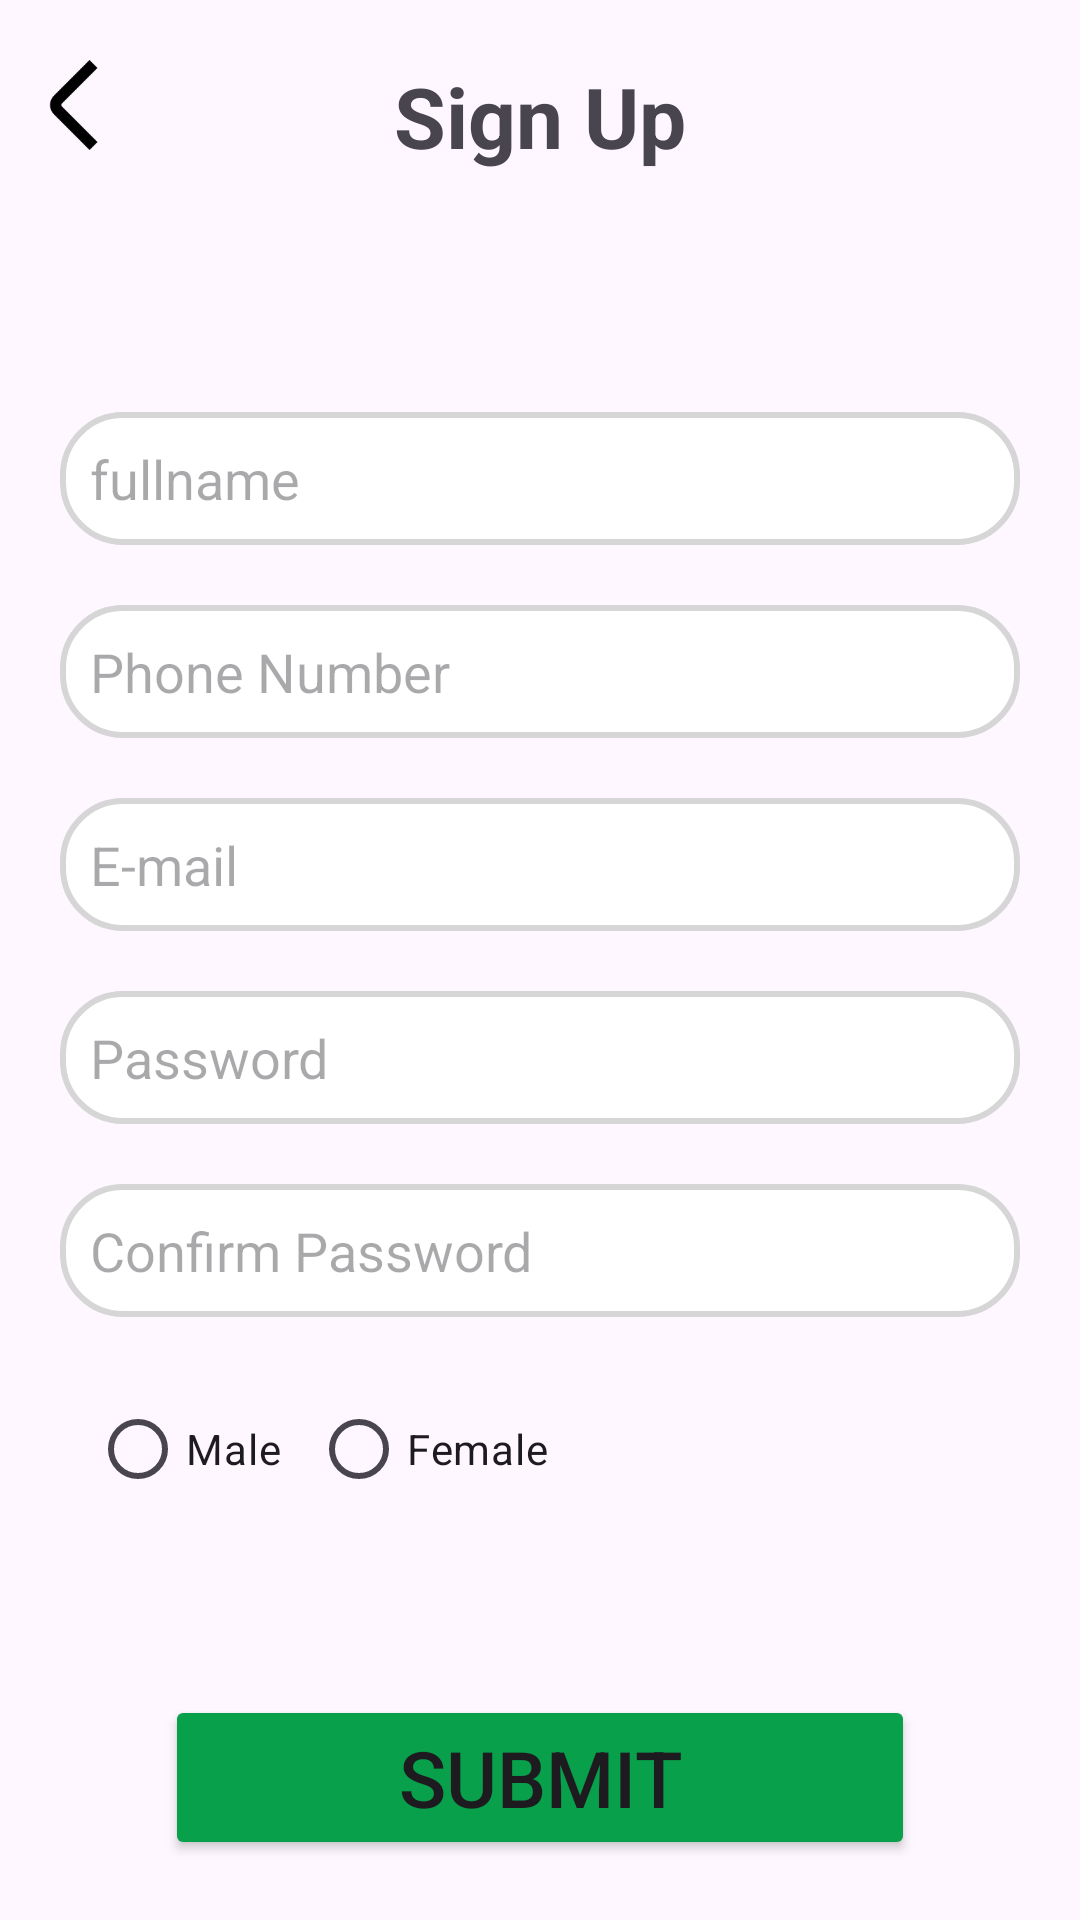

Icon bounding boxes for this 1080w x 1920h phone screenshot, format (x1, y1, x2, y2):
back: (49, 60, 98, 150)
